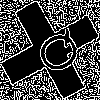Q: (25, 25, 87, 83)
